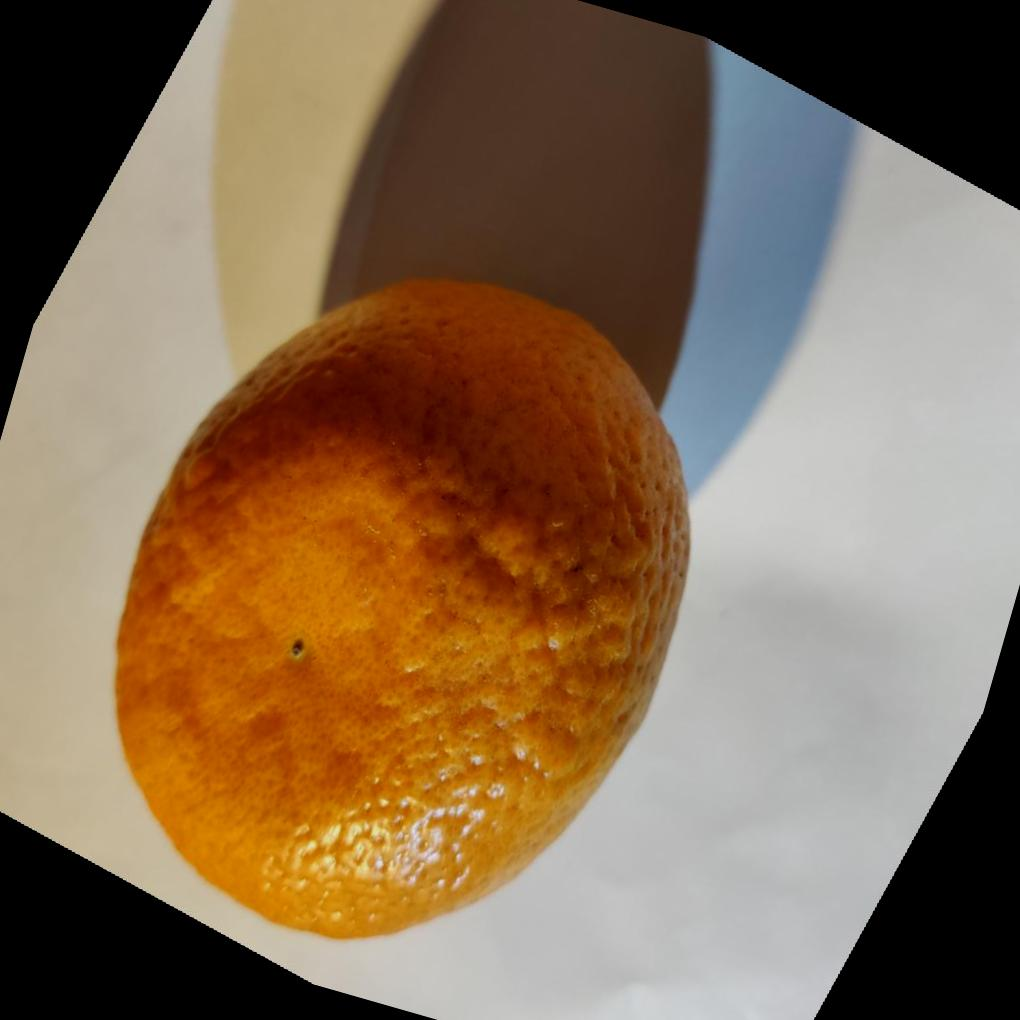FreshGuava: (113, 273, 695, 941)
